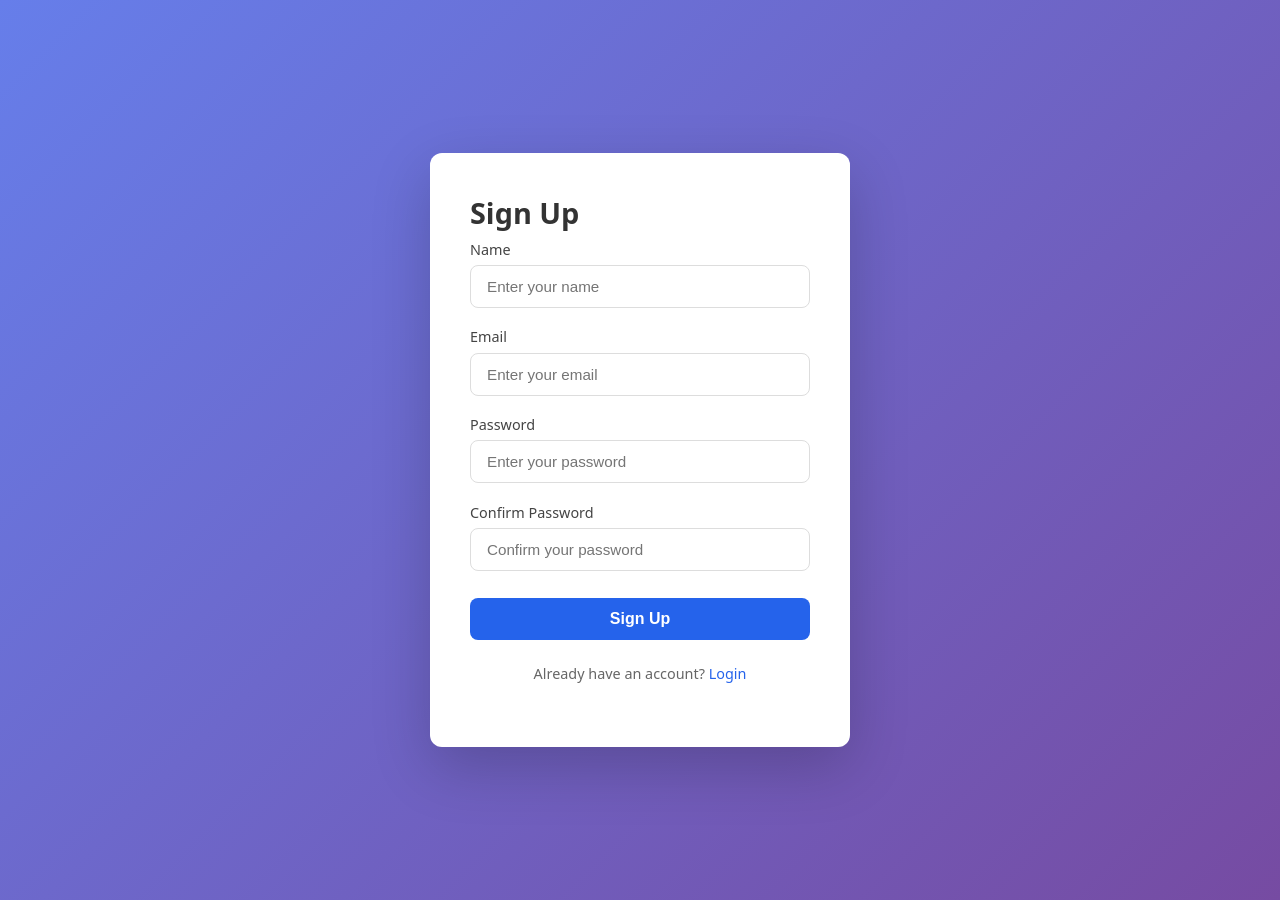
Scenario: Signup Page › shows error for invalid email format
Type "John" into the field with placeholder "Enter your name" at x=640, y=287, box [470,265,810,308]
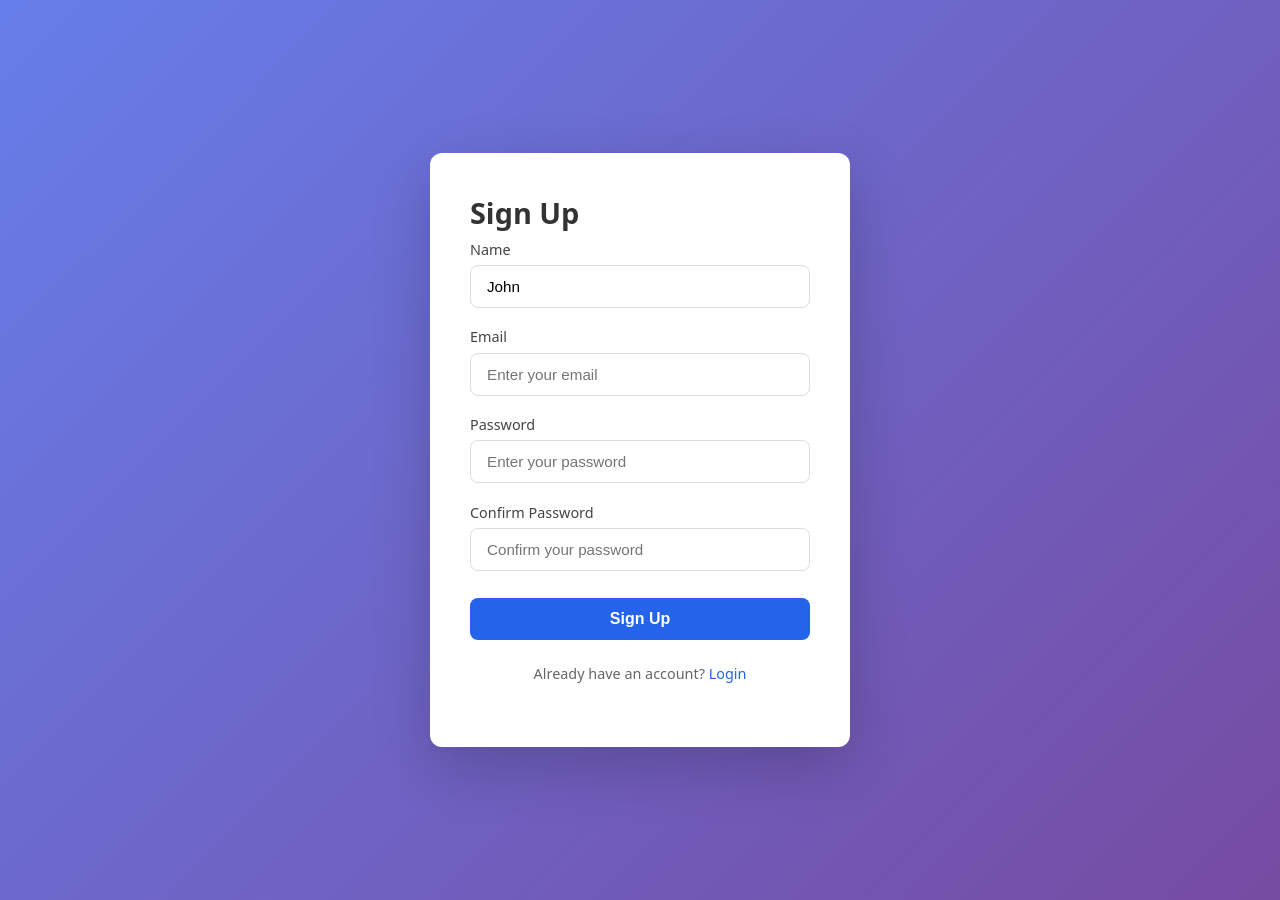
Type "bademail@" into the field with placeholder "Enter your email" at x=640, y=374, box [470,353,810,396]
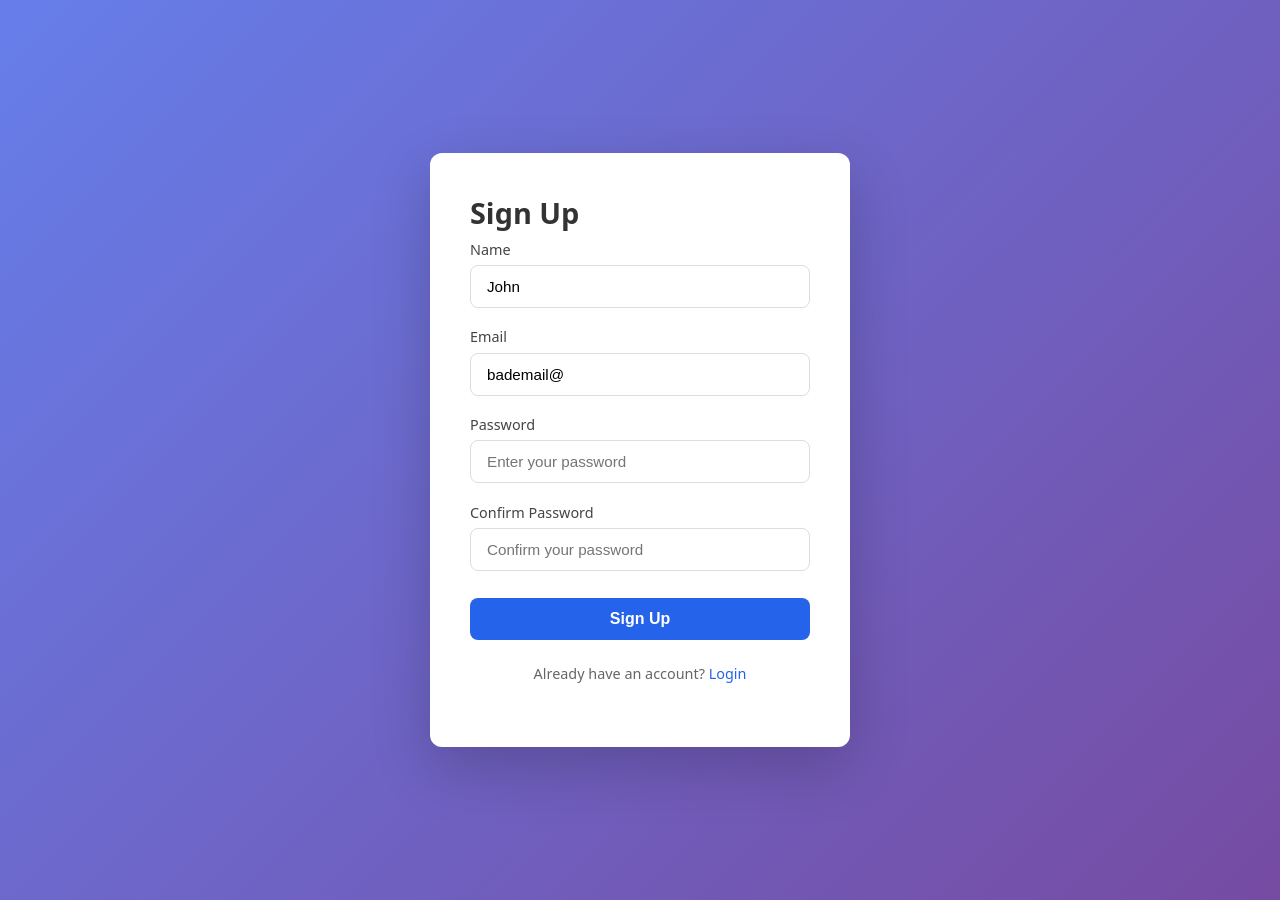
Type "password123" into the password field with placeholder "Enter your password" at x=640, y=462, box [470,440,810,483]
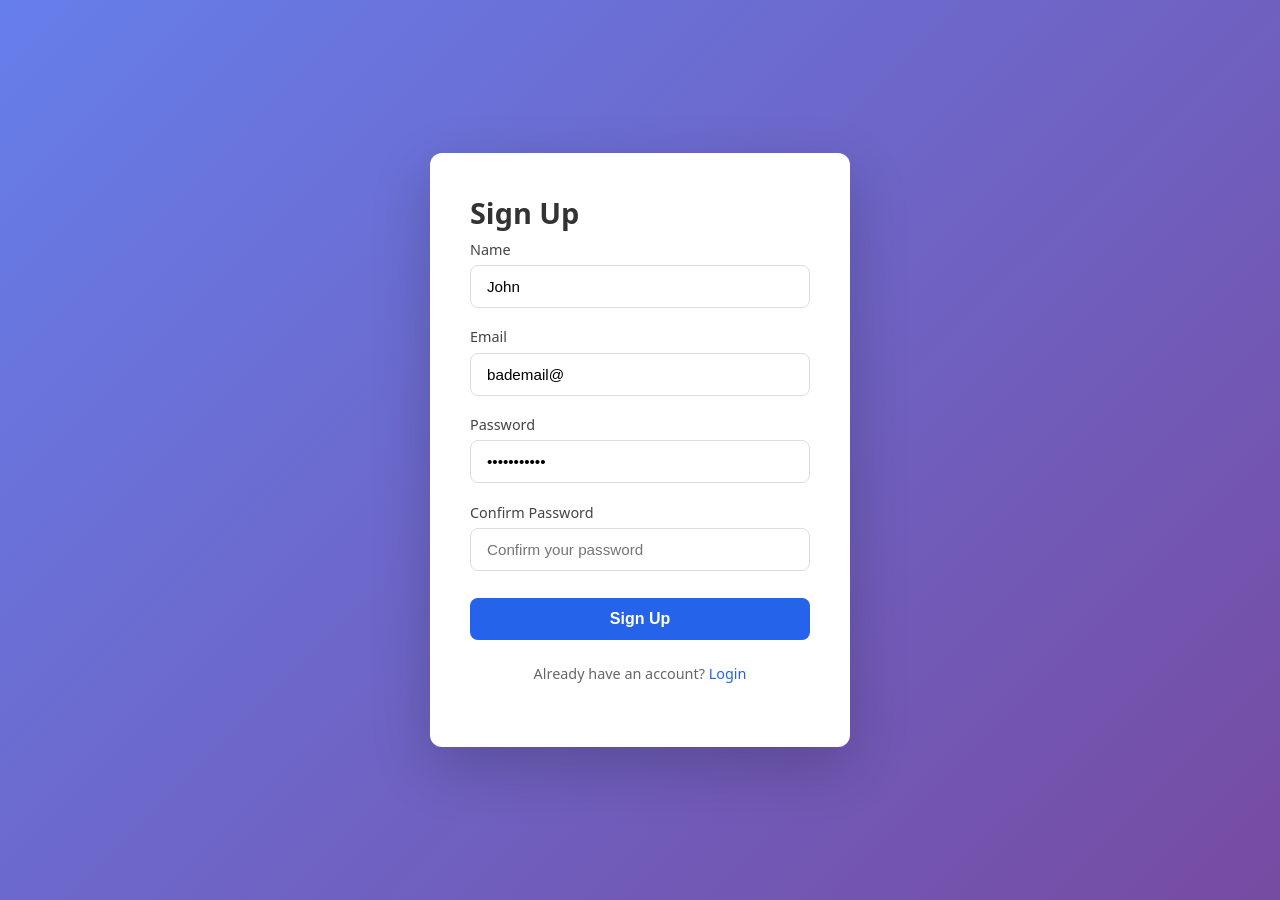
Type "password123" into the password field with placeholder "Confirm your password" at x=640, y=550, box [470,528,810,571]
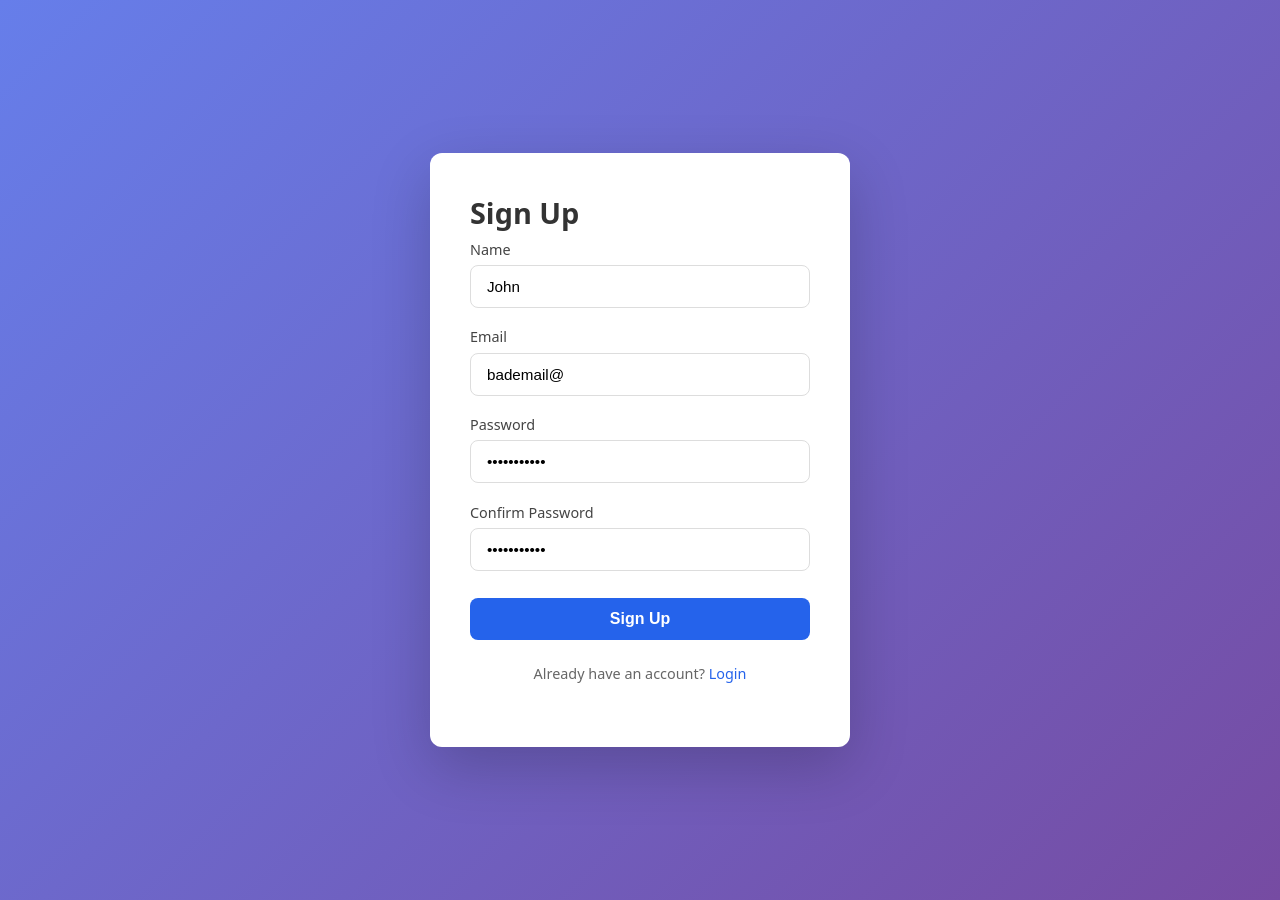
Click the button "Sign Up" at x=640, y=619, box [470,598,810,640]
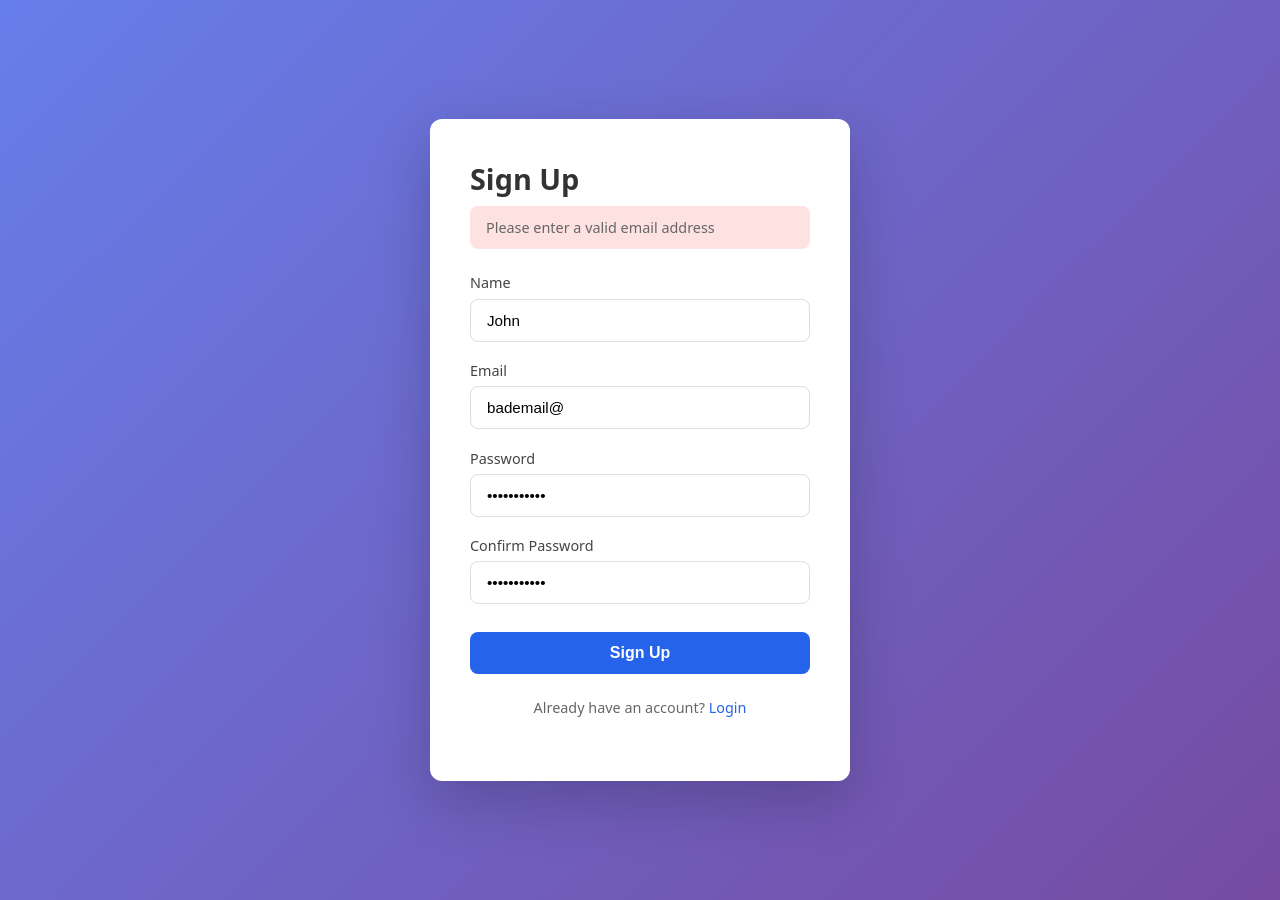
Expected: the text "Please enter a valid email address" is shown, [470,206,810,249]
